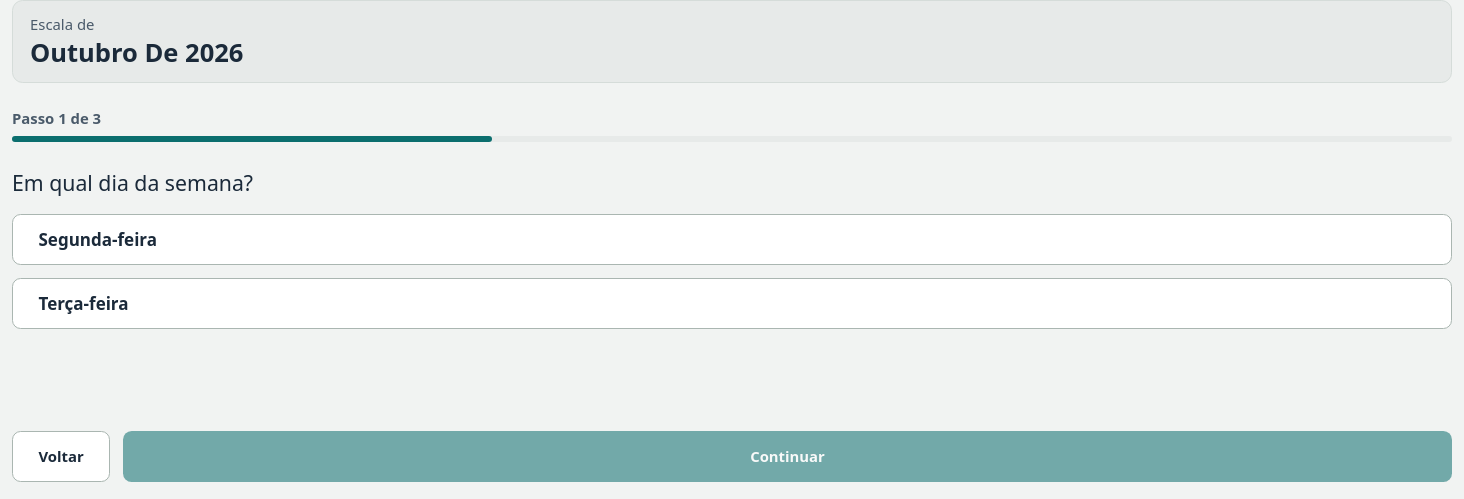
Scenario: SolicitacaoWizard — horário em que o publicador já tem pedido › desabilita o horário e avisa, mesmo com vaga em outro carrinho
This screenshot has width=1464, height=499.
expect the heading "Em qual dia da semana?" is shown: met, box [12,168,253,197]
Click the radio button labelled "Segunda-feira".
click(98, 240)  # box [12,214,1452,266]
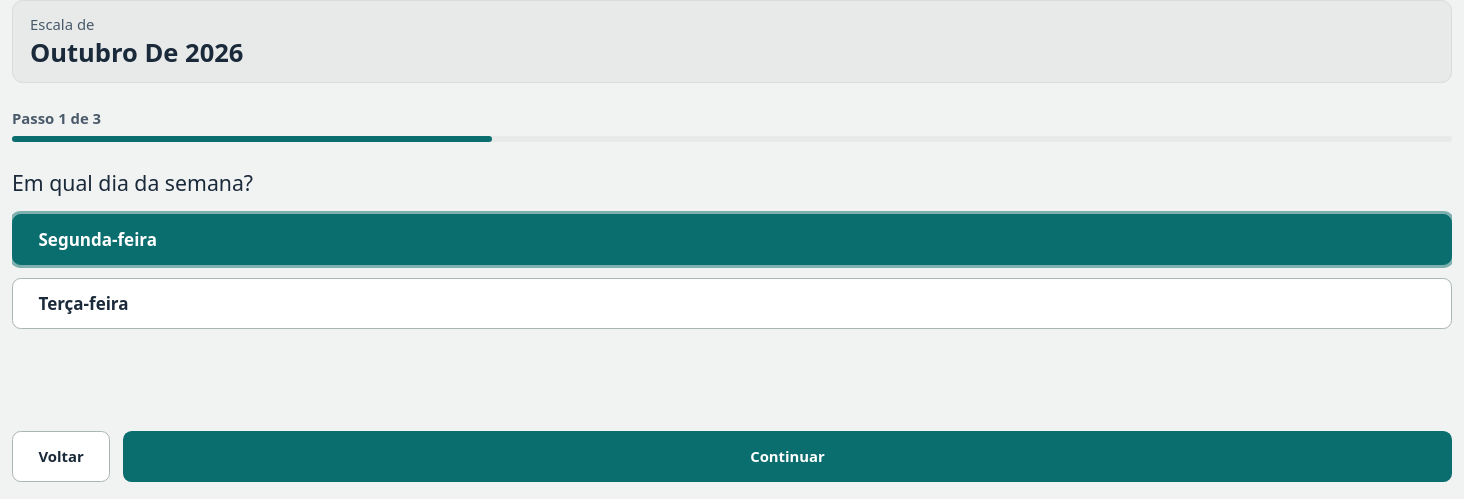
Click the button "Continuar".
click(788, 456)  # box [123,431,1452,482]
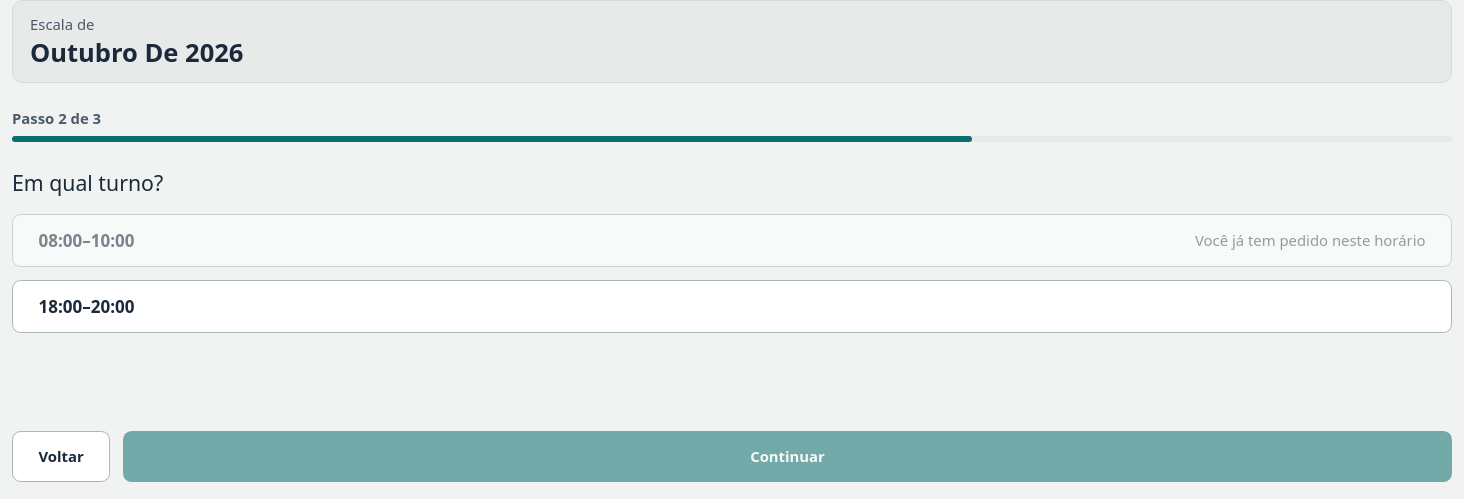
expect the heading "Em qual turno?" is shown: met, box [12,168,163,197]
expect the radio button labelled "08:00–10:00 Você já tem pedido neste horário" is disabled: met, box [12,214,1452,268]
expect the radio button labelled "08:00–10:00 Você já tem pedido neste horário" is shown: met, box [12,214,1452,268]
